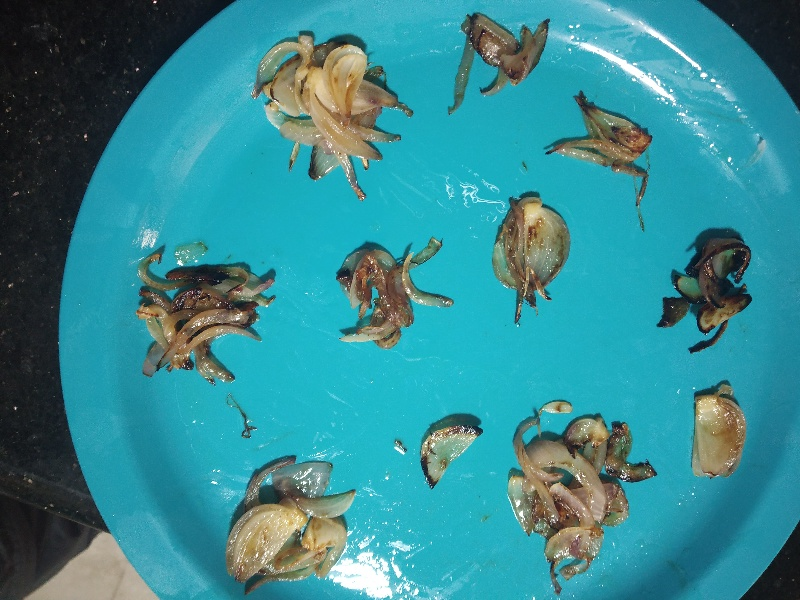onion_burnt: (659, 224, 754, 343), (135, 251, 251, 297)
onion_fried: (507, 404, 645, 570), (342, 243, 437, 352), (491, 195, 568, 317), (547, 94, 654, 177), (138, 305, 258, 379), (453, 14, 547, 87)
onion_golden: (252, 35, 406, 175), (228, 457, 351, 580), (689, 386, 748, 483)
